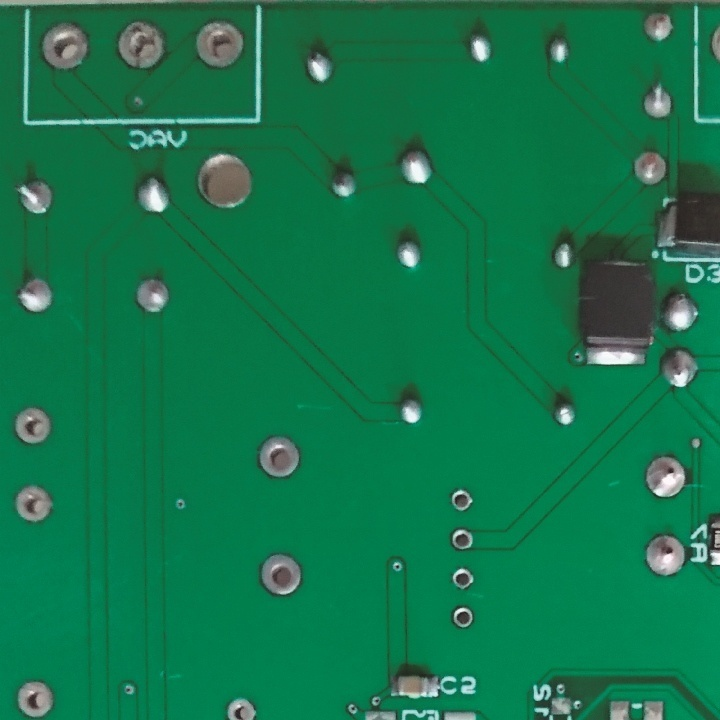F: (36, 16, 91, 72), (193, 18, 244, 69), (251, 431, 304, 478), (115, 18, 162, 71), (257, 552, 310, 597), (643, 452, 690, 502), (640, 531, 685, 581), (15, 675, 59, 720), (12, 406, 58, 449), (13, 481, 56, 526), (131, 276, 175, 318), (16, 275, 57, 319), (15, 178, 56, 218), (630, 146, 669, 186), (641, 81, 676, 124), (641, 8, 676, 51), (223, 696, 261, 720), (447, 484, 477, 512), (449, 565, 476, 593), (450, 526, 475, 555), (450, 602, 475, 629)
